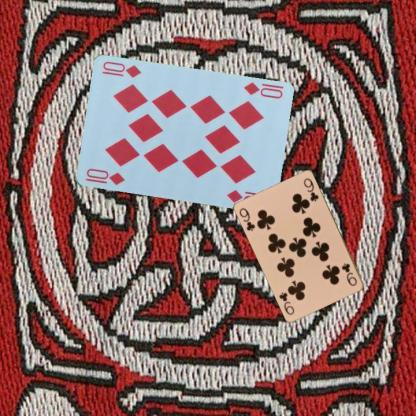10d: (82, 166, 126, 186), (240, 80, 284, 100)
9c: (237, 205, 256, 232), (339, 261, 358, 287)
